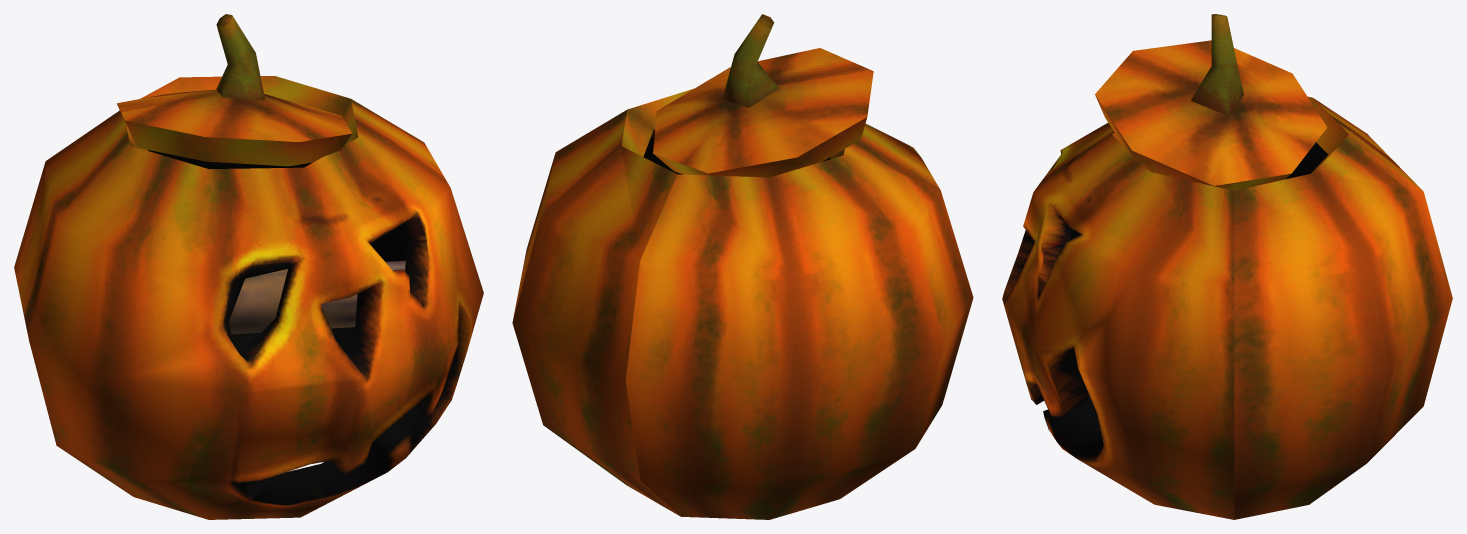
Rendered from pump4.glb.
3 renders of one model, left to right at view 1: azimuth 30°, elevation 25°; view 2: azimuth 150°, elevation 25°; view 3: azimuth 270°, elevation 25°, orthographic. The views are drawn at different scales.
Parts seen in each view (by area): view 1: pump4-col; view 2: pump4-col; view 3: pump4-col.
Boxes of the visible parts, x1,y1,x2,y2 form: pump4-col: (14,14,483,519); pump4-col: (512,14,973,519); pump4-col: (1002,14,1452,519).
Size of the model in its own units: 4.05 by 4.27 by 3.88.
Materials: 2 (2 with a texture image).
